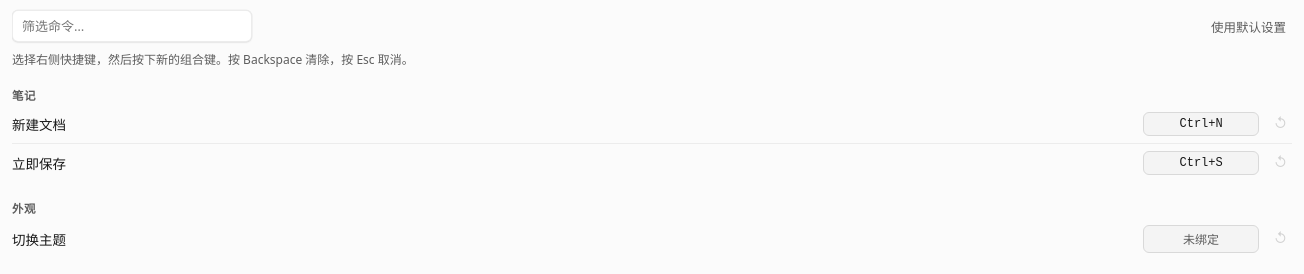
it: 快捷键设置 › 光按着修饰键不算数，等后面那个真正的键
This screenshot has width=1304, height=274.
Click the button with class "key-cap" showing "Ctrl+N" at (1201, 124), box left=1143, top=112, right=1259, bottom=136
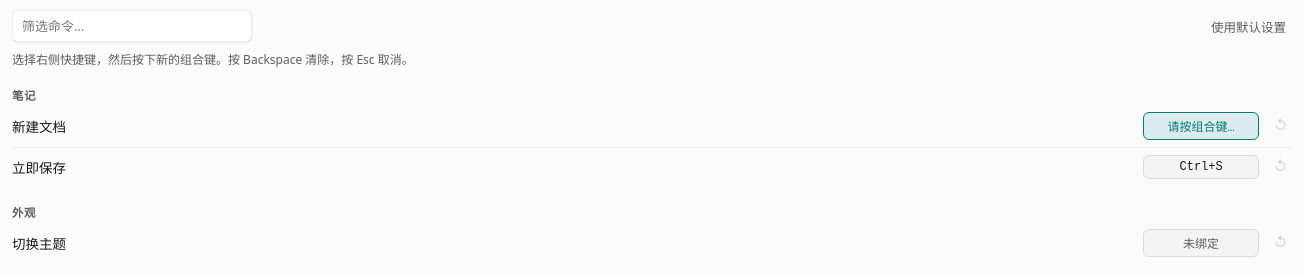
Now the button with class "key-cap" reads "请按组合键…", box left=1143, top=112, right=1259, bottom=140
